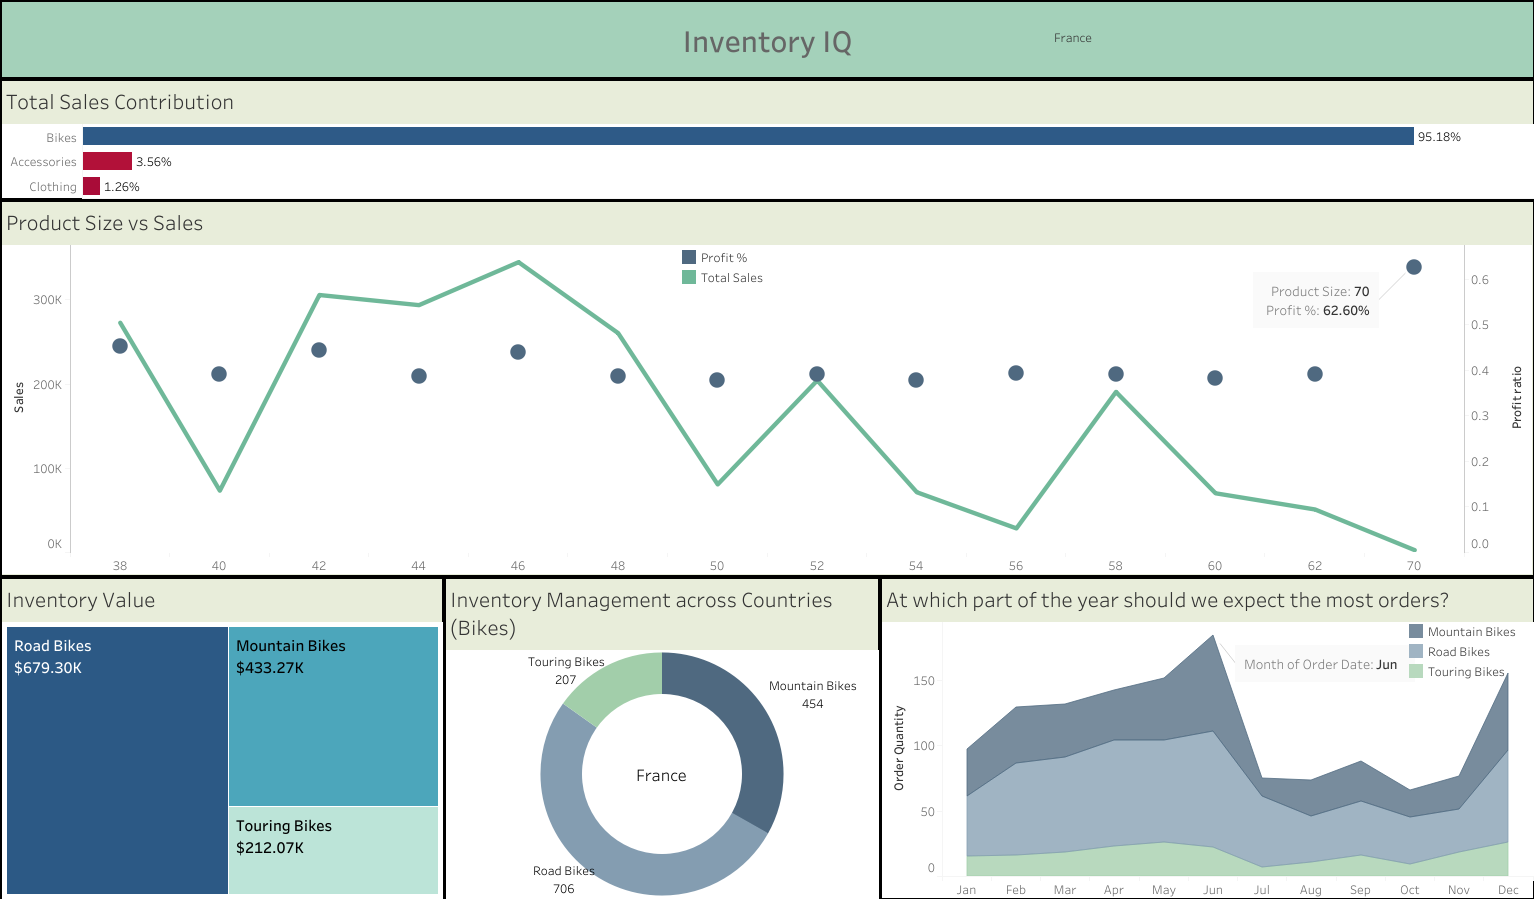

The page's visual inventory and layout, read from the dashboard file:
{"tool":"tableau","page":{"name":"Inventory IQ","canvas":[1000,1000],"units":"permille","ordinal":2},"visuals":[{"type":"text","box":[0,0,1000,87.6]},{"type":"filter","title":"Inventory Management across Countries (Bikes)","param":"[federated.0p214rr1gn7r401bq3fu206zzvht].[none:Country:nk]","box":[685.2,31.5,93,22.6]},{"type":"worksheet","title":"Total Sales Contribution","mark":"Automatic","rows":["CategoryName"],"cols":["Calculation_4477985414567837719"],"box":[0,87.6,1000,134.8]},{"type":"worksheet","title":"Product Size vs Sales","mark":"Shape","rows":["Calculation_4477985414567837719","Calculation_4477985415625625643"],"cols":["ProductSize"],"box":[0,222.4,1000,418.2]},{"type":"legend","title":"Product Size vs Sales","param":"[federated.0p214rr1gn7r401bq3fu206zzvht].[:Measure Names]","box":[442.4,274.6,81.9,57.1]},{"type":"worksheet","title":"Inventory Value","mark":"Automatic","box":[0,640.6,289.4,359.4]},{"type":"worksheet","title":"Inventory Management across Countries (Bikes)","mark":"Pie","rows":["Calculation_4477985415630708785","Calculation_4477985415630680111"],"box":[289.4,640.6,284.1,359.4]},{"type":"worksheet","title":"At which part of the year should we expect the most orders?","mark":"Area","rows":["OrderQuantity"],"cols":["OrderDate"],"box":[573.5,640.6,426.5,359.4]},{"type":"legend","title":"At which part of the year should we expect the most orders?","param":"[federated.0p214rr1gn7r401bq3fu206zzvht].[Product Name (group)]","box":[915.7,690,81.9,76.8]}]}

Visuals, with their boxes on the dashboard's canvas, which has no fixed pixel size, in thousandths of its width and height (x1, y1, x2, y2). These are canvas units, not pixel positions in the 1534x899 screenshot, which may show the page scaled, cropped or inside an application window:
text: BBox(0, 0, 1000, 88)
"Inventory Management across Countries (Bikes)" filter: BBox(685, 32, 778, 54)
"Total Sales Contribution" worksheet: BBox(0, 88, 1000, 222)
"Product Size vs Sales" worksheet (Shape marks): BBox(0, 222, 1000, 641)
"Product Size vs Sales" legend: BBox(442, 275, 524, 332)
"Inventory Value" worksheet: BBox(0, 641, 289, 1000)
"Inventory Management across Countries (Bikes)" worksheet (Pie marks): BBox(289, 641, 574, 1000)
"At which part of the year should we expect the most orders?" worksheet (Area marks): BBox(574, 641, 1000, 1000)
"At which part of the year should we expect the most orders?" legend: BBox(916, 690, 998, 767)
